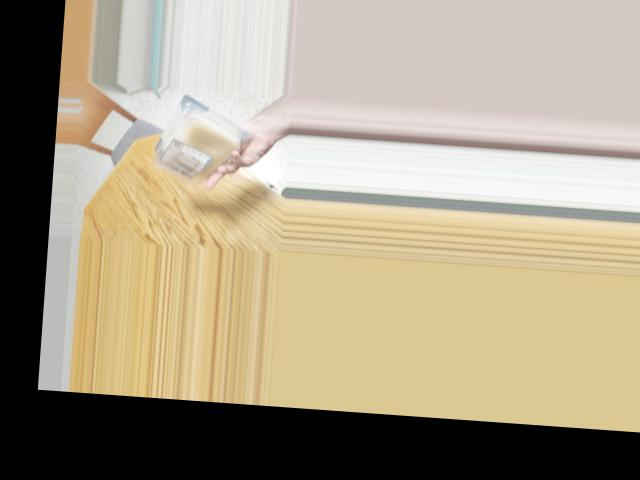cheese: (146, 103, 247, 186)
